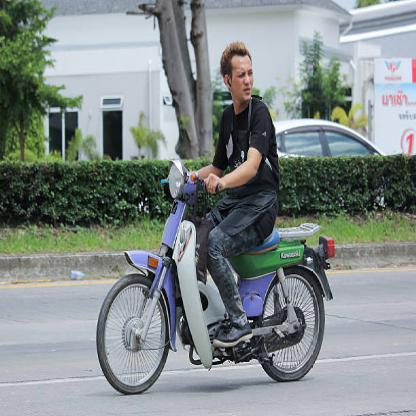Motorcycle: (92, 163, 336, 394)
